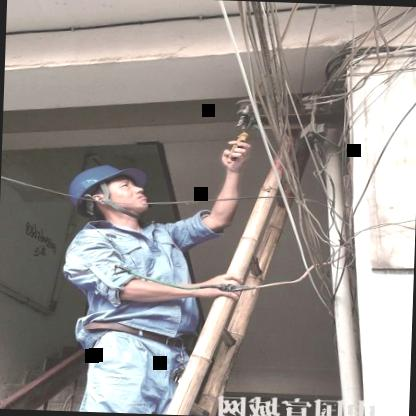helmet: (60, 160, 162, 226)
